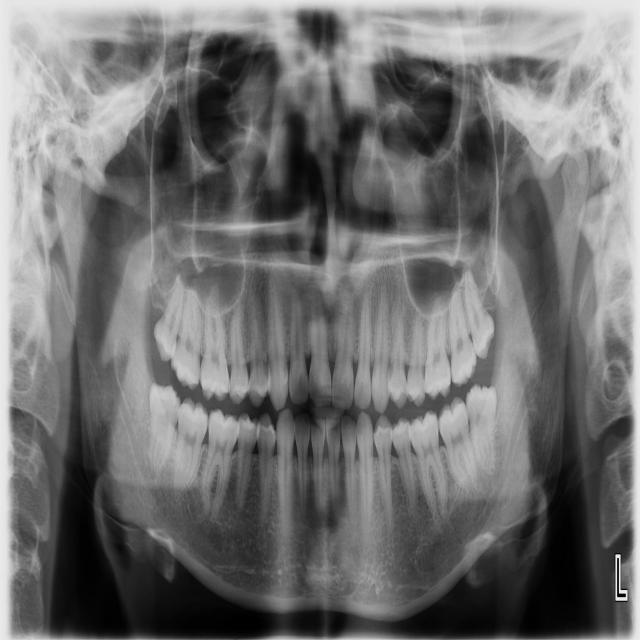mandibula: (57, 149, 590, 623)
